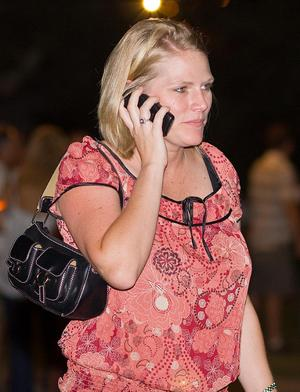person: (9, 17, 280, 392)
